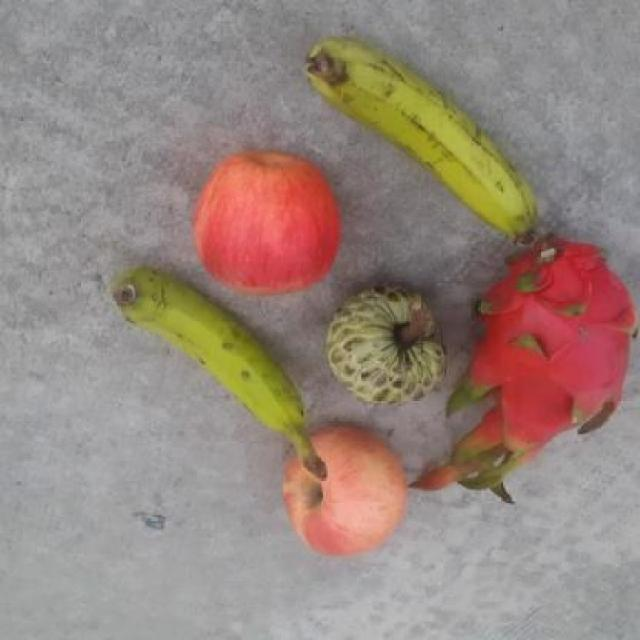apple: (189, 147, 348, 296), (279, 422, 410, 561)
banana: (302, 38, 542, 248), (107, 268, 330, 480)
dragon fruit: (464, 229, 640, 465)
sugar apple: (324, 280, 451, 411)
